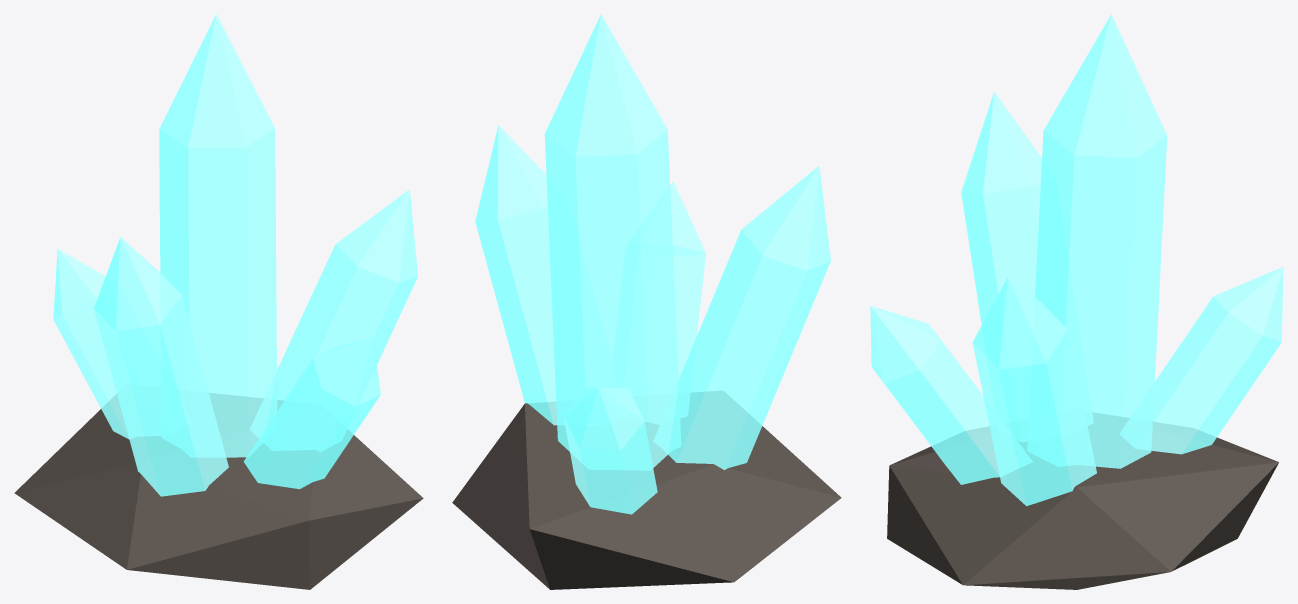
The model's file is cav-cristais.gltf.
3 views of the same model, side by side, from view 1: azimuth 30°, elevation 25°; view 2: azimuth 150°, elevation 25°; view 3: azimuth 270°, elevation 25° (orthographic). The views are drawn at different scales.
Visible parts, largest first — view 1: cav-cristais; view 2: cav-cristais; view 3: cav-cristais.
Part boxes in pixels (bbox=[...]): cav-cristais: bbox=[14, 14, 423, 589]; cav-cristais: bbox=[452, 14, 841, 589]; cav-cristais: bbox=[870, 14, 1283, 589].
Size of the model in its own units: 0.5604 by 0.85 by 0.6.
